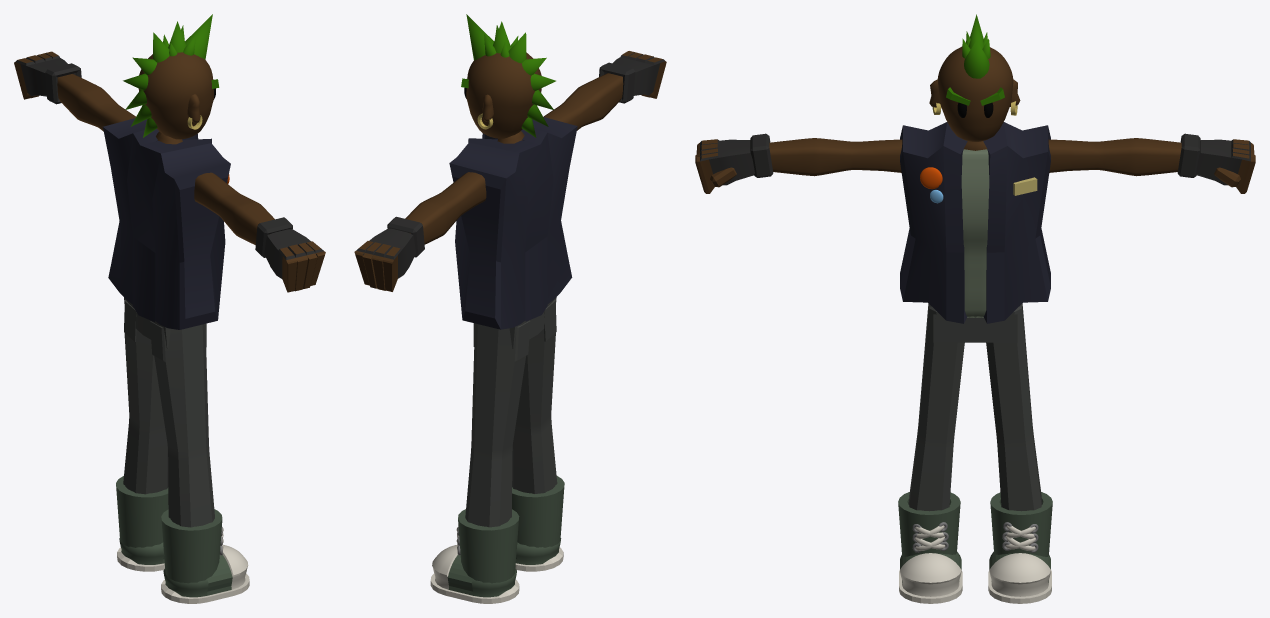
Rendered from SKINNY green hair.fbx.
The picture shows the model from 3 angles, left to right: view 1: azimuth 30°, elevation 25°; view 2: azimuth 150°, elevation 25°; view 3: azimuth 270°, elevation 25°; orthographic projection.
Visible parts, largest first — view 1: polySurface61; view 2: polySurface61; view 3: polySurface61.
Part boxes in pixels (x1,y1,x2,y2): polySurface61: (14, 14, 325, 603); polySurface61: (354, 14, 666, 603); polySurface61: (695, 14, 1255, 603).
Size of the model in its own units: 0.0344 by 0.1805 by 0.1637.
